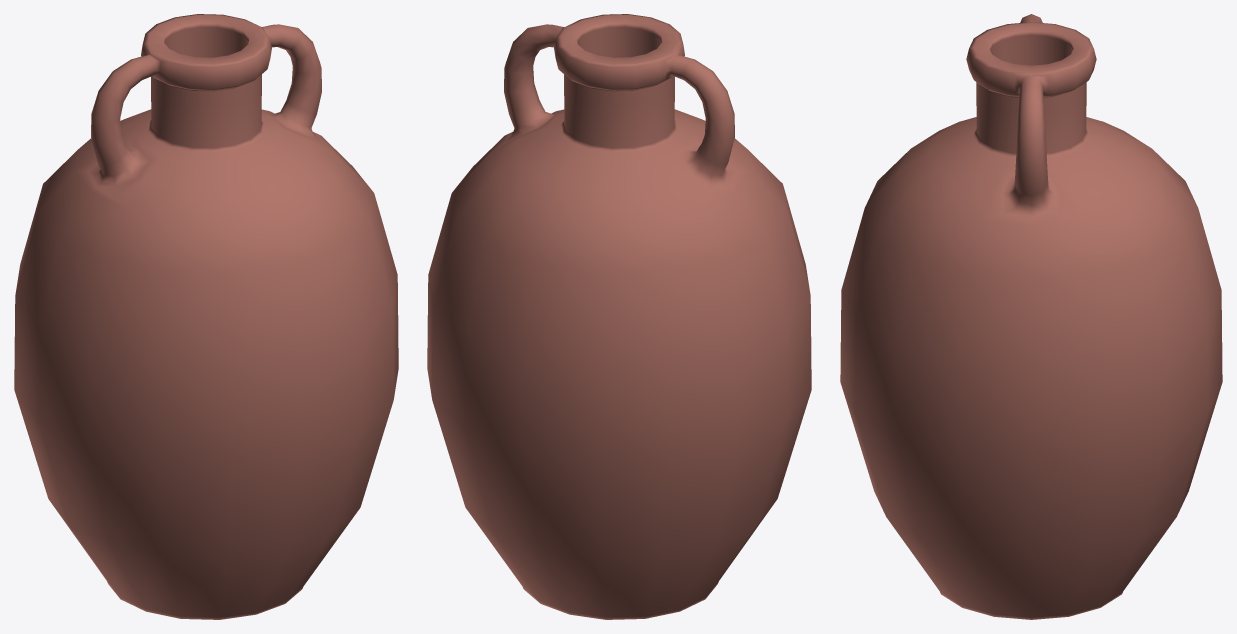
File: prop_base_model.fbx
The picture shows the model from 3 angles, left to right: view 1: azimuth 30°, elevation 25°; view 2: azimuth 150°, elevation 25°; view 3: azimuth 270°, elevation 25°; orthographic projection.
Parts seen in each view (by area): view 1: JugWater_geo; view 2: JugWater_geo; view 3: JugWater_geo.
Part boxes in pixels (x1,y1,x2,y2): JugWater_geo: (14,14,398,619); JugWater_geo: (427,14,811,619); JugWater_geo: (840,14,1222,619).
Size of the model in its own units: 23.97 by 37.01 by 23.97.
